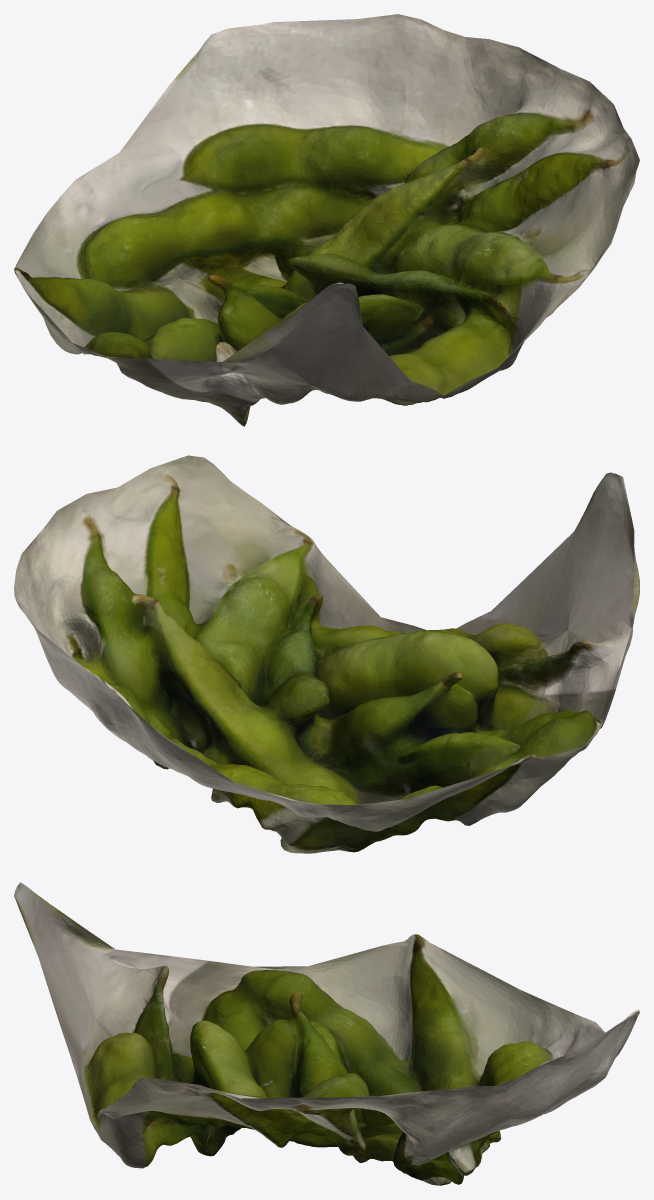
File: edamame.dae
The picture shows the model from 3 angles, top to bottom: view 1: azimuth 30°, elevation 25°; view 2: azimuth 150°, elevation 25°; view 3: azimuth 270°, elevation 25°; orthographic projection. The views are drawn at different scales.
Parts seen in each view (by area): view 1: edamame; view 2: edamame; view 3: edamame.
Boxes of the visible parts, bbox=[...] form: edamame: bbox=[14, 14, 639, 426]; edamame: bbox=[14, 455, 639, 853]; edamame: bbox=[14, 882, 639, 1185].
Size of the model in its own units: 0.1199 by 0.0545 by 0.1264.
1 material, 1 textured.
